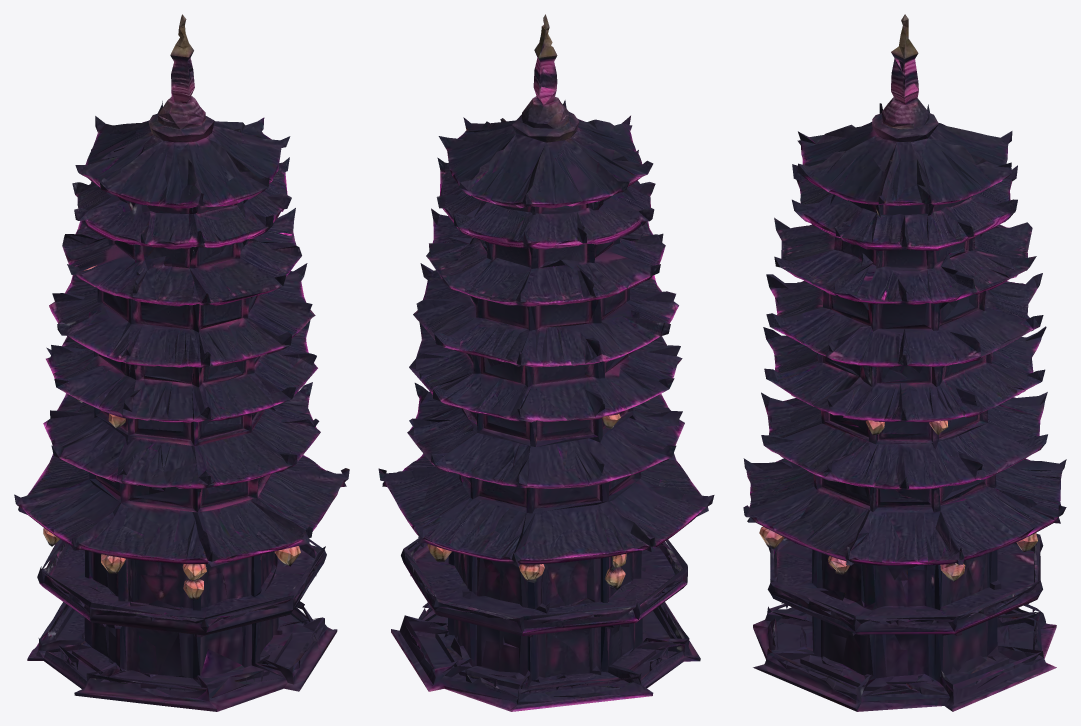
Rendered from mx_bld_pagoda.glb.
The picture shows the model from 3 angles, left to right: view 1: azimuth 30°, elevation 25°; view 2: azimuth 150°, elevation 25°; view 3: azimuth 270°, elevation 25°; orthographic projection.
Size of the model in its own units: 0.8748 by 1.9 by 0.8785.
Materials: 1 (1 with a texture image).
